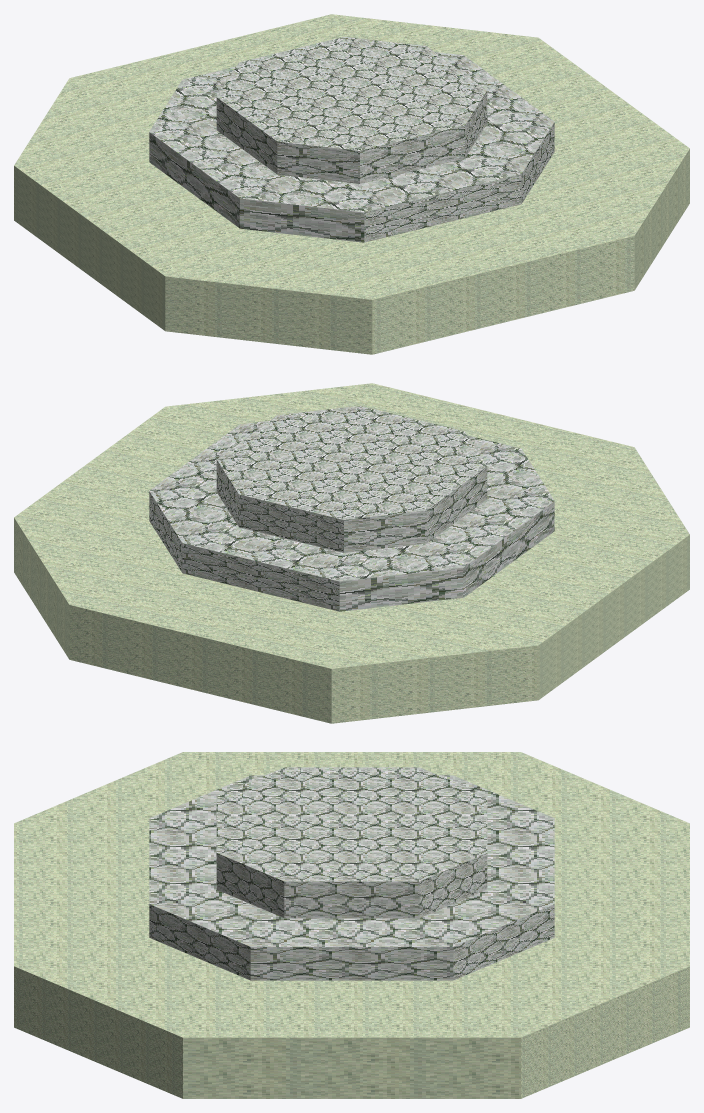
The model's file is final_platform.obj.
3 views of the same model, one above another, from view 1: azimuth 30°, elevation 25°; view 2: azimuth 150°, elevation 25°; view 3: azimuth 270°, elevation 25° (orthographic). The views are drawn at different scales.
Parts seen in each view (by area): view 1: Second_floor, Third_floor, Fourth_floor.001; view 2: Second_floor, Third_floor, Fourth_floor.001; view 3: Second_floor, Third_floor, Fourth_floor.001.
Part boxes in pixels (x1,y1,x2,y2): Second_floor: (14,14,689,354); Third_floor: (149,52,554,242); Fourth_floor.001: (216,37,487,183); Second_floor: (14,383,689,723); Third_floor: (149,421,554,611); Fourth_floor.001: (216,406,487,552); Second_floor: (14,752,689,1098); Third_floor: (149,775,554,980); Fourth_floor.001: (216,767,487,918).
Bounding box in the file's own units: 2 × 0.43 × 2.
Materials: 2 (2 with a texture image).
